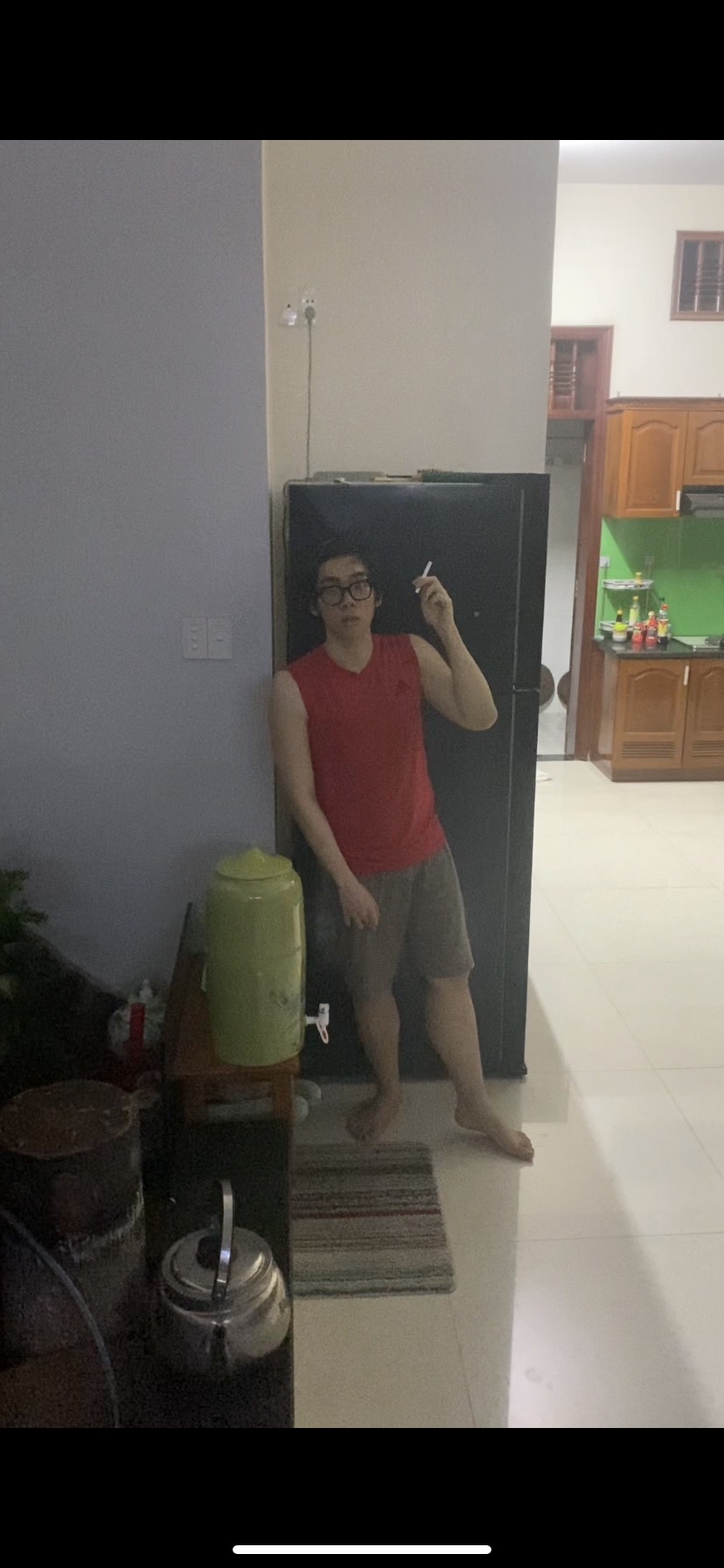cigarette: (416, 556, 437, 576)
person: (267, 469, 546, 1177)
